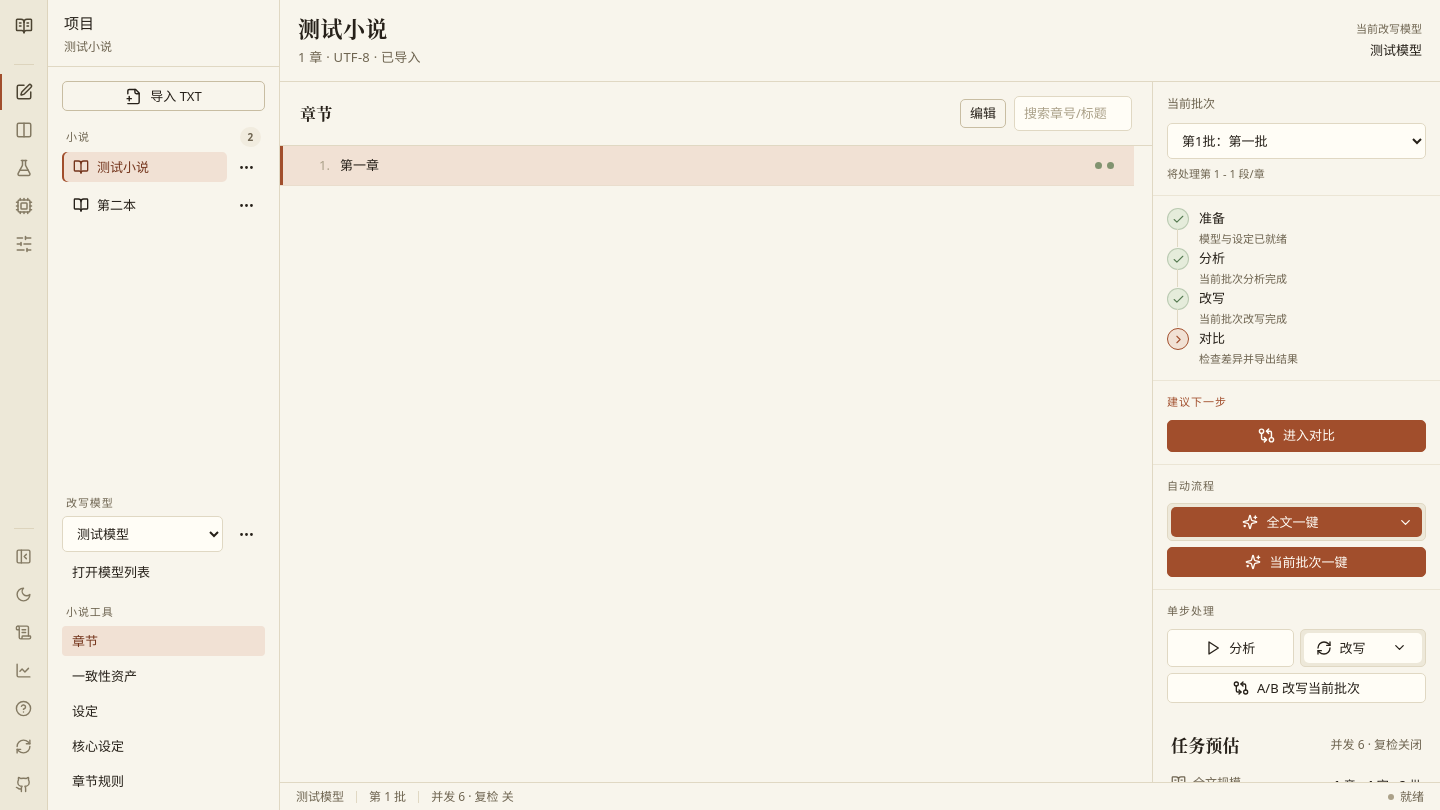
Test case: App feature behavior › loads the initial novel, model and batch
Check: the heading "测试小说" is shown, box [298, 12, 388, 43]
Check: the dropdown labelled "当前批次" shows "第1批：第一批", box [1167, 124, 1426, 160]
Click the button named "管理模型" at (24, 206), box [6, 188, 42, 224]
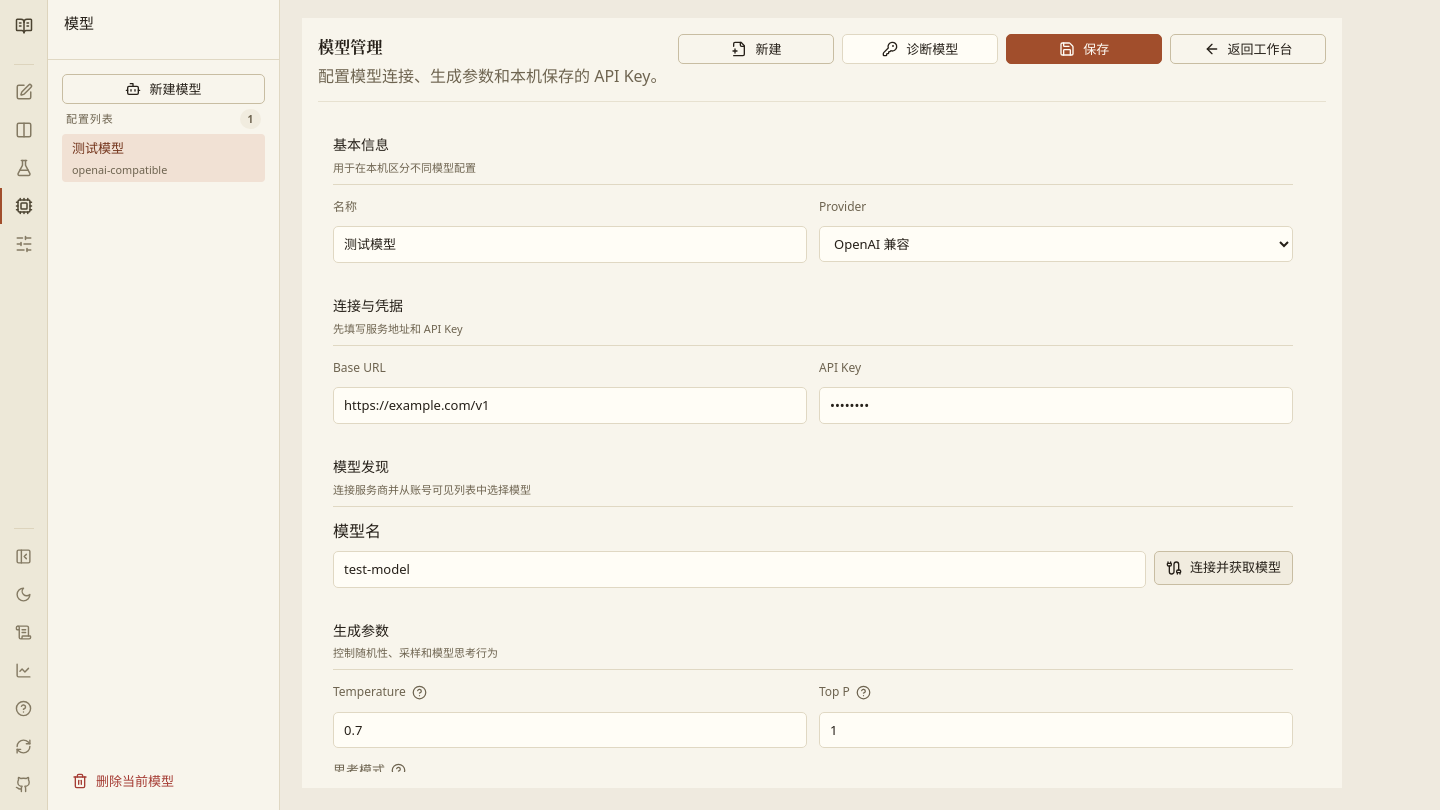
Check: the heading "模型管理" is shown, box [318, 35, 383, 58]
Check: the dropdown showing "test-model" is shown, box [333, 551, 1146, 588]
